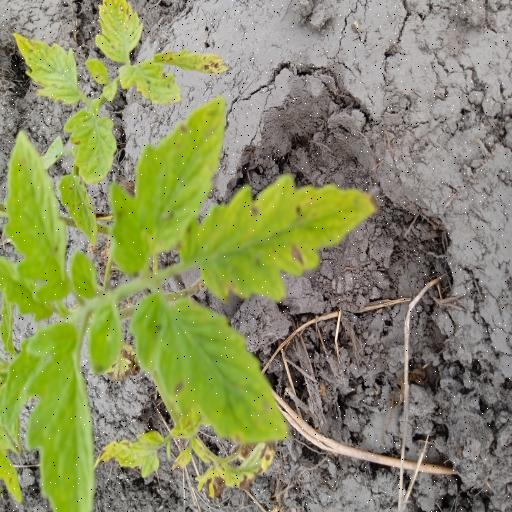Tomato_Brown_Spots: (129, 292, 295, 452), (180, 171, 377, 302), (106, 95, 228, 278)
